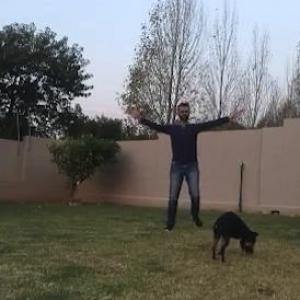takeoff: (132, 100, 254, 238)
